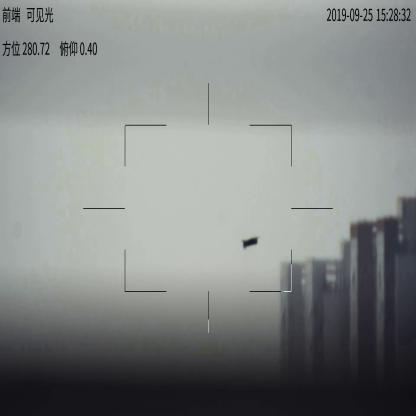uav: (240, 238, 258, 249)
